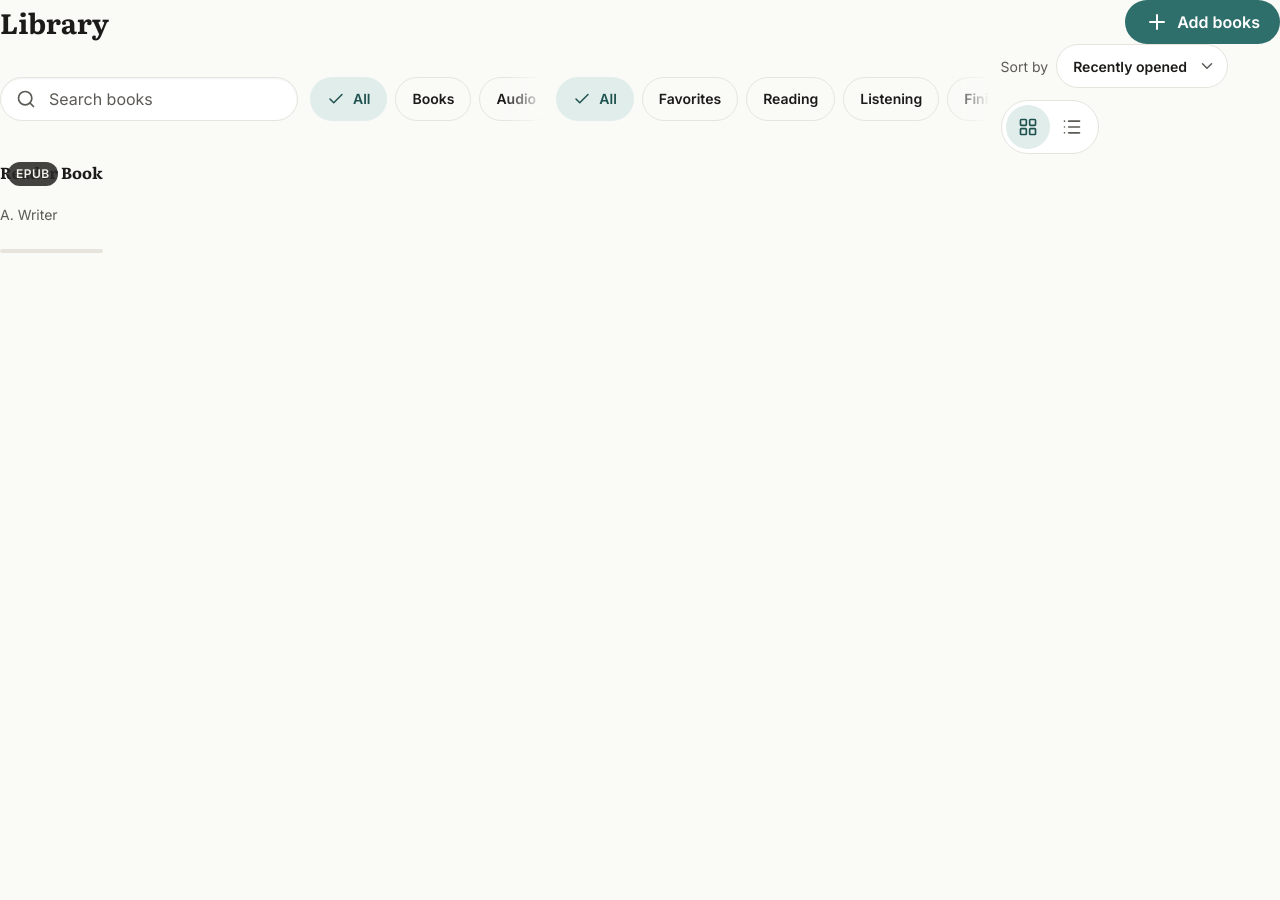
the library list › "Edit details" in the detail sheet's menu closes it and opens the edit form, and saving renames the book
Click the button "Reader Book A. Writer" at (33, 174), box [0,154,1279,253]
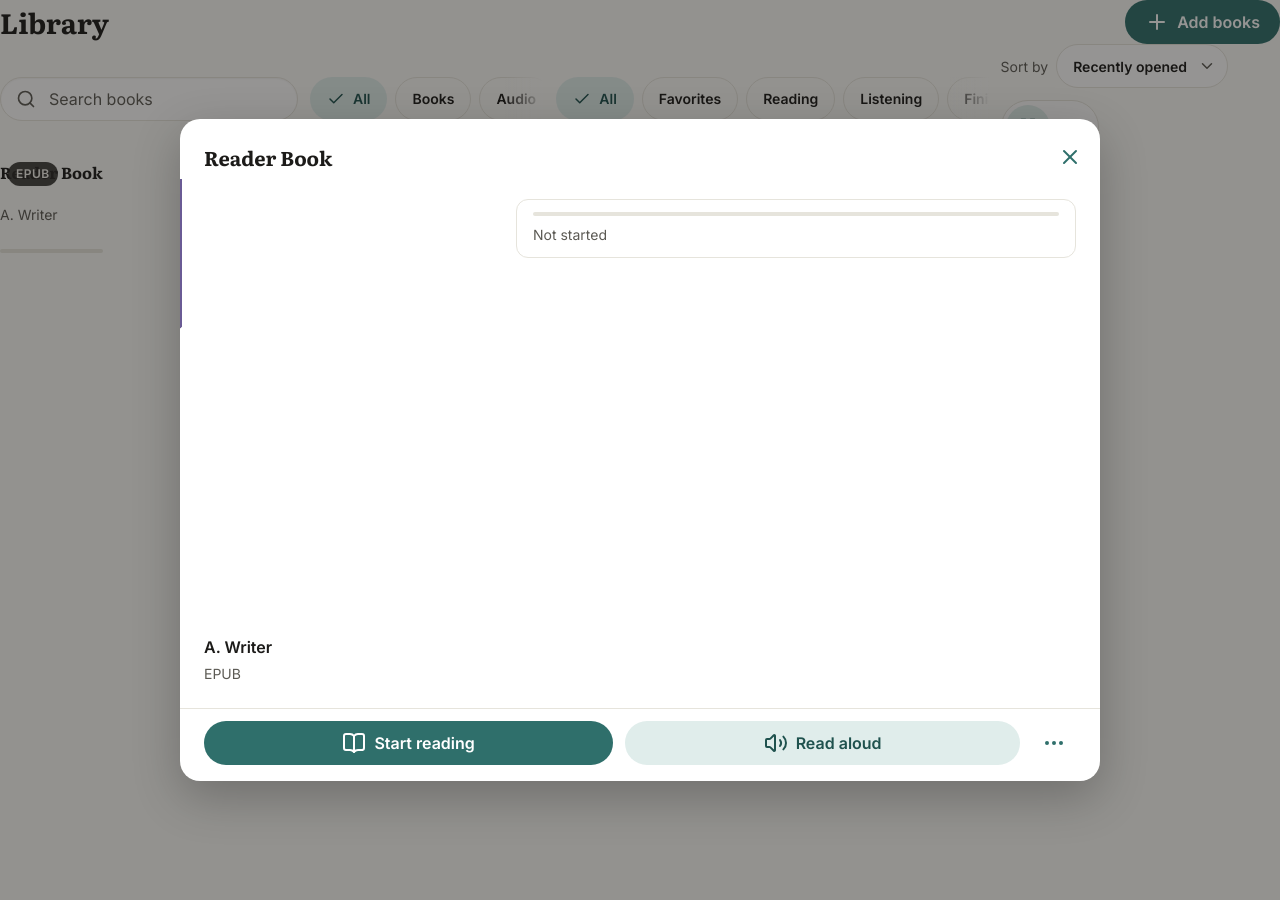
Click the button named "More options" at (1054, 743), box [1032,721,1076,765]
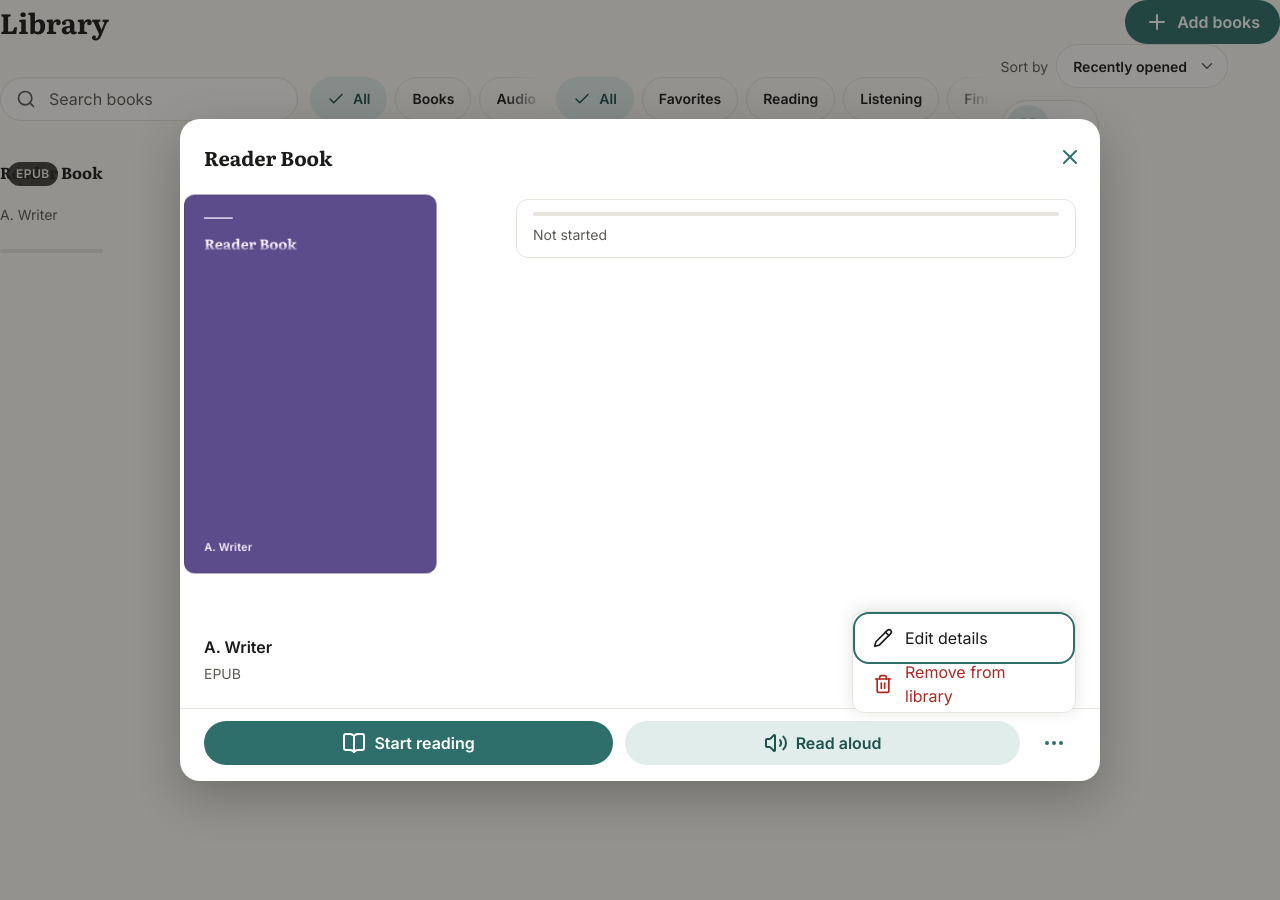
Click the menu item "Edit details" at (964, 638), box [857,616,1071,660]
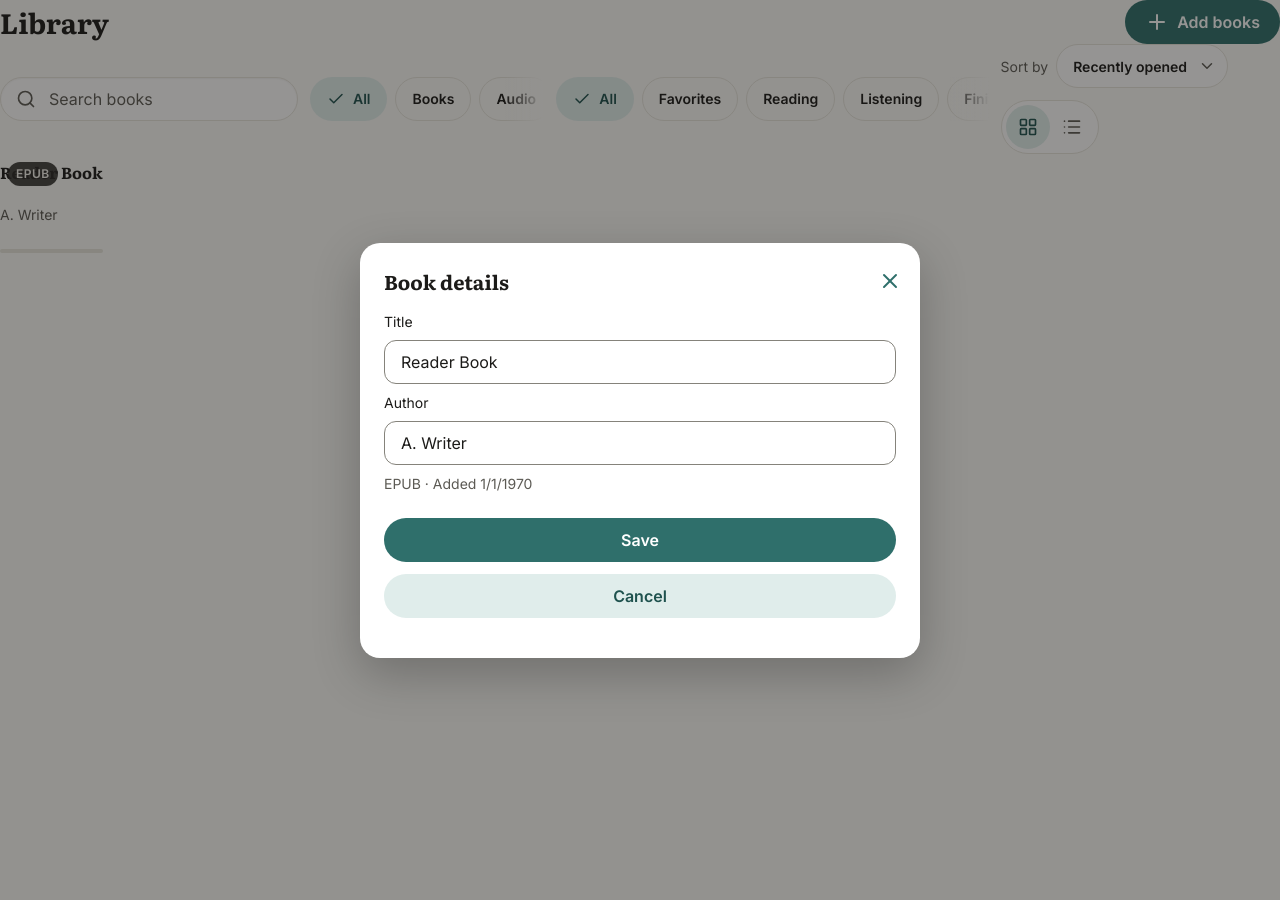
Check: the field labelled "Title" holds "Reader Book"
Replace the text in the field labelled "Title" with "Renamed Book" at (640, 362), box [384,340,896,384]
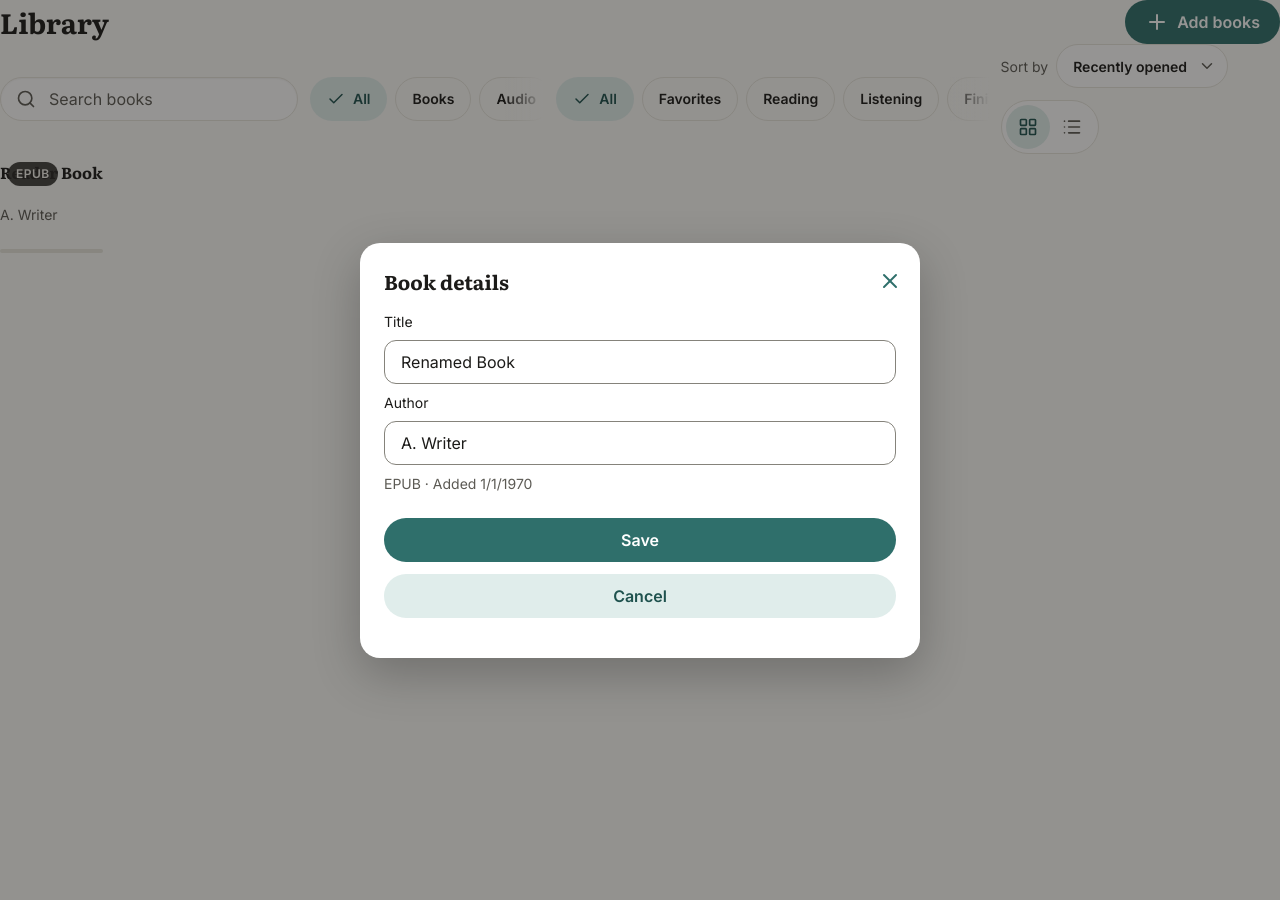
Click the button "Save" at (640, 540), box [384,518,896,562]
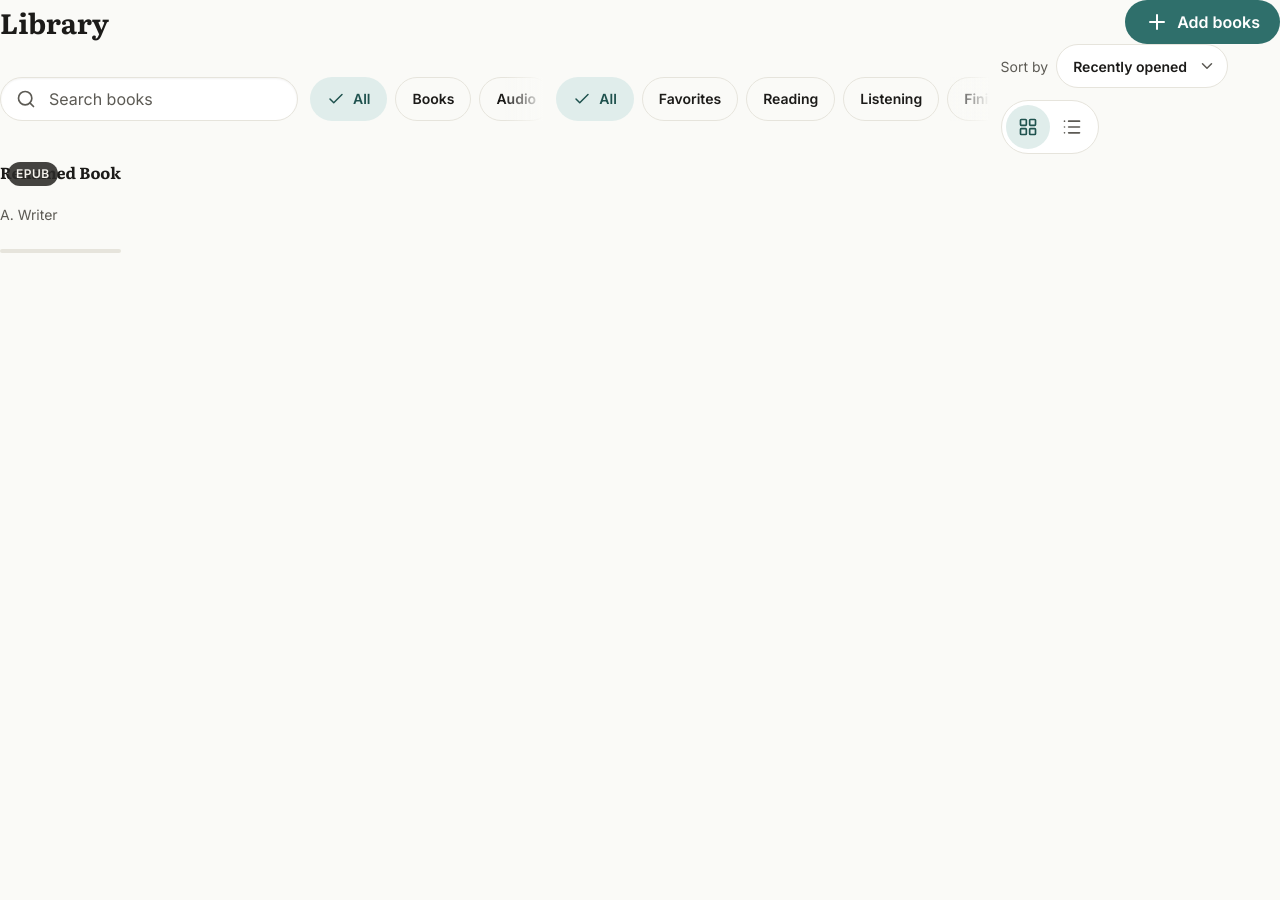
Check: the text "Renamed Book" is shown, box [0,162,121,202]
